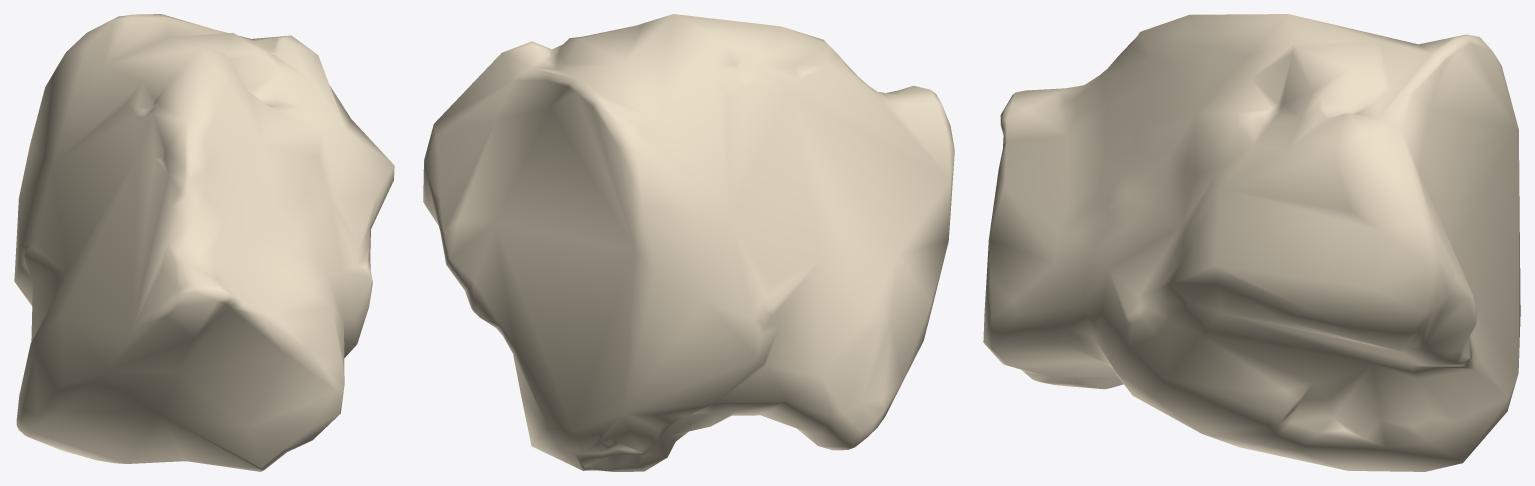
File: cuboid-bone-r.glb
The picture shows the model from 3 angles, left to right: view 1: azimuth 30°, elevation 25°; view 2: azimuth 150°, elevation 25°; view 3: azimuth 270°, elevation 25°; orthographic projection. The views are drawn at different scales.
Parts seen in each view (by area): view 1: Cuboid bone.r; view 2: Cuboid bone.r; view 3: Cuboid bone.r.
Boxes of the visible parts, x1,y1,x2,y2 form: Cuboid bone.r: (14,14,394,471); Cuboid bone.r: (423,14,954,471); Cuboid bone.r: (983,14,1520,471).
Bounding box in the file's own units: 0.0322 × 0.0309 × 0.0342.
